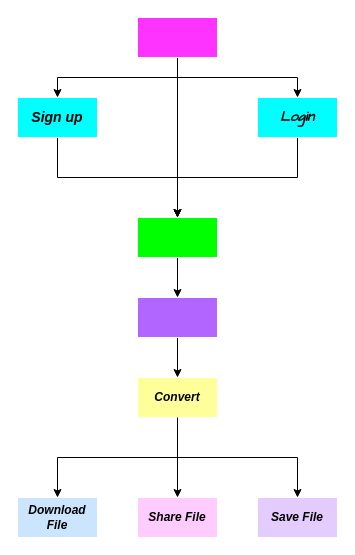
Image size: 355x555. Some labels were removed from this diagram. Each missing label, with the centre of its shape:
"Select File Format to be Converted" belongs at (x=177, y=317).
"Select File To Upload" belongs at (x=177, y=237).
"Start" belongs at (x=177, y=37).
